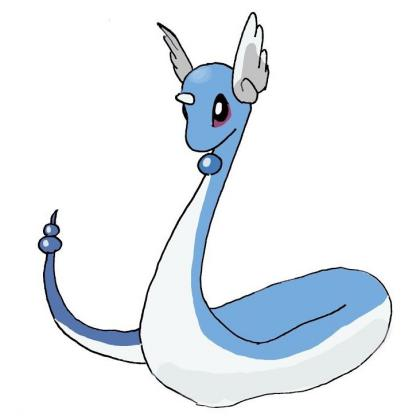Dragonair: (35, 15, 397, 416)
